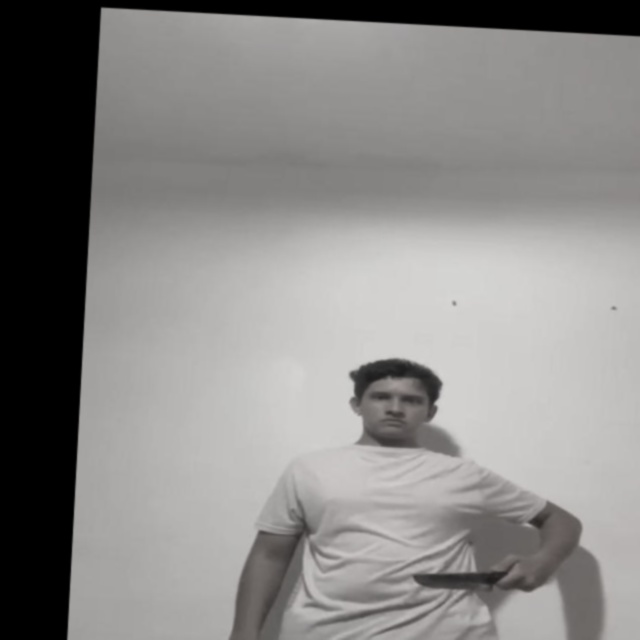Sharp-Object: (415, 568, 489, 594)
